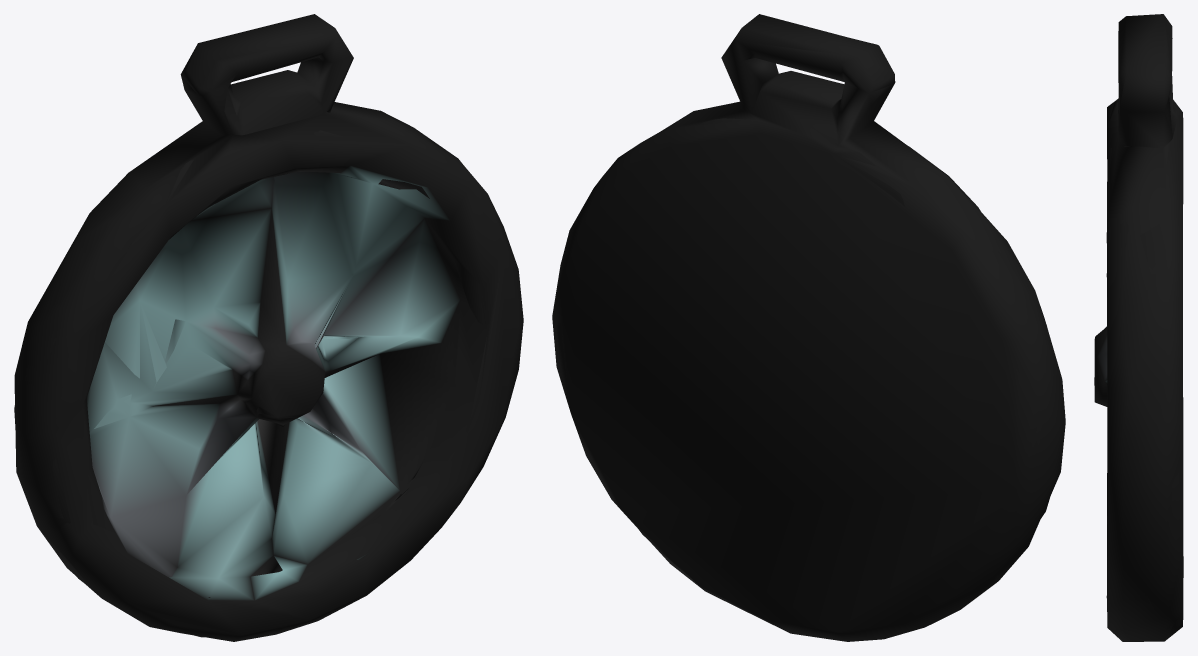
Rendered from gen3d-compass-lod1.glb.
3 renders of one model, left to right at view 1: azimuth 30°, elevation 25°; view 2: azimuth 150°, elevation 25°; view 3: azimuth 270°, elevation 25°, orthographic. The views are drawn at different scales.
Visible parts, largest first — view 1: part_0; view 2: part_0; view 3: part_0.
Part boxes in pixels (bbox=[...]): part_0: bbox=[14, 14, 523, 641]; part_0: bbox=[552, 14, 1065, 641]; part_0: bbox=[1094, 14, 1183, 641].
Bounding box in the file's own units: 0.8688 × 0.9955 × 0.1395.
